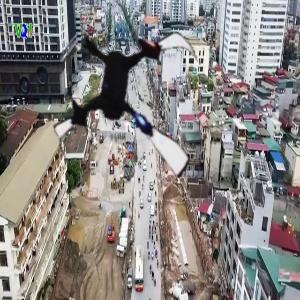drone: (43, 14, 222, 193)
